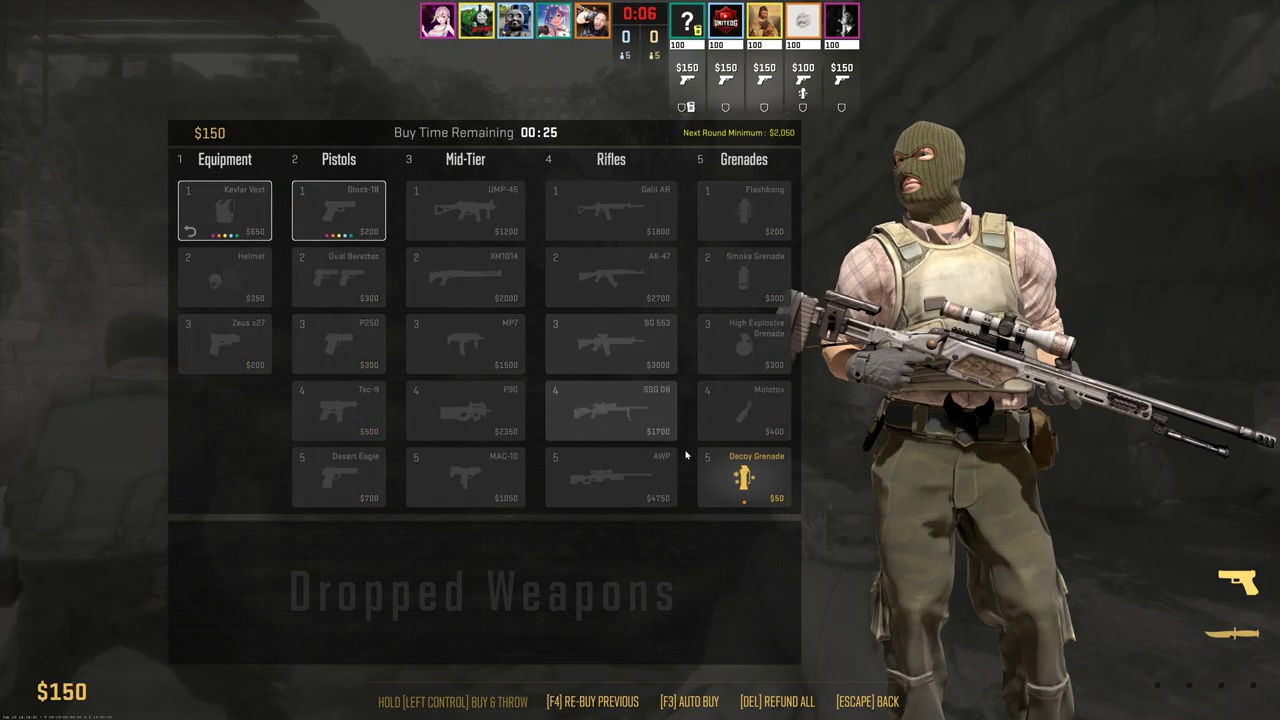Terrorist: (850, 120, 1075, 720)
